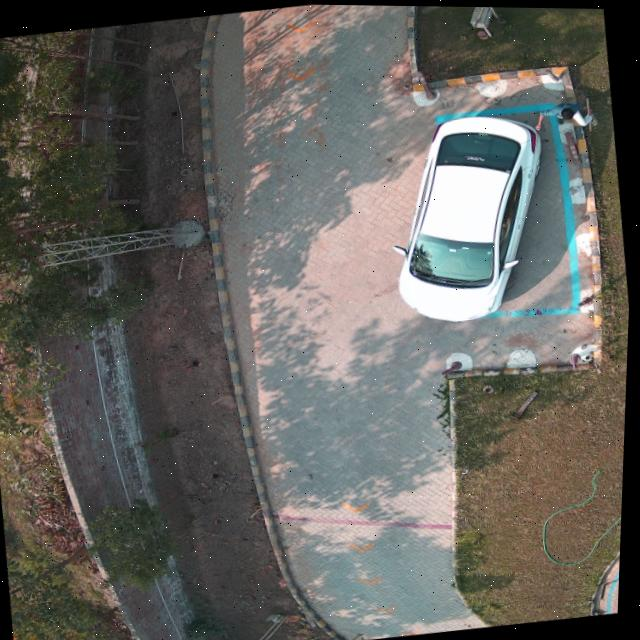car: (400, 113, 542, 319)
